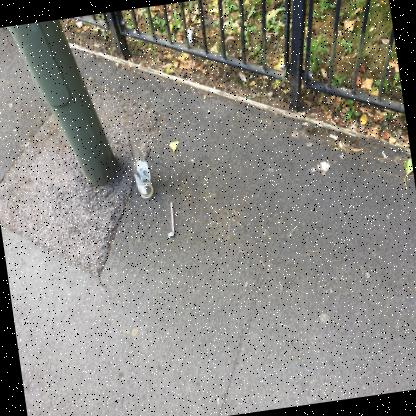Glass bottle: (129, 133, 153, 198)
Plastic straw: (167, 202, 174, 237)
Unlabeled litter: (187, 28, 192, 42)
